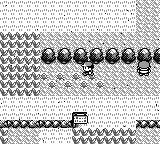captura: (1, 33, 41, 96), (72, 128, 136, 143), (1, 128, 8, 143)
leer: (72, 112, 87, 127)
main: (81, 61, 94, 76)
no-caminable: (41, 48, 160, 64)
npc: (137, 60, 151, 76)
salto: (1, 120, 71, 128), (136, 120, 160, 128)
